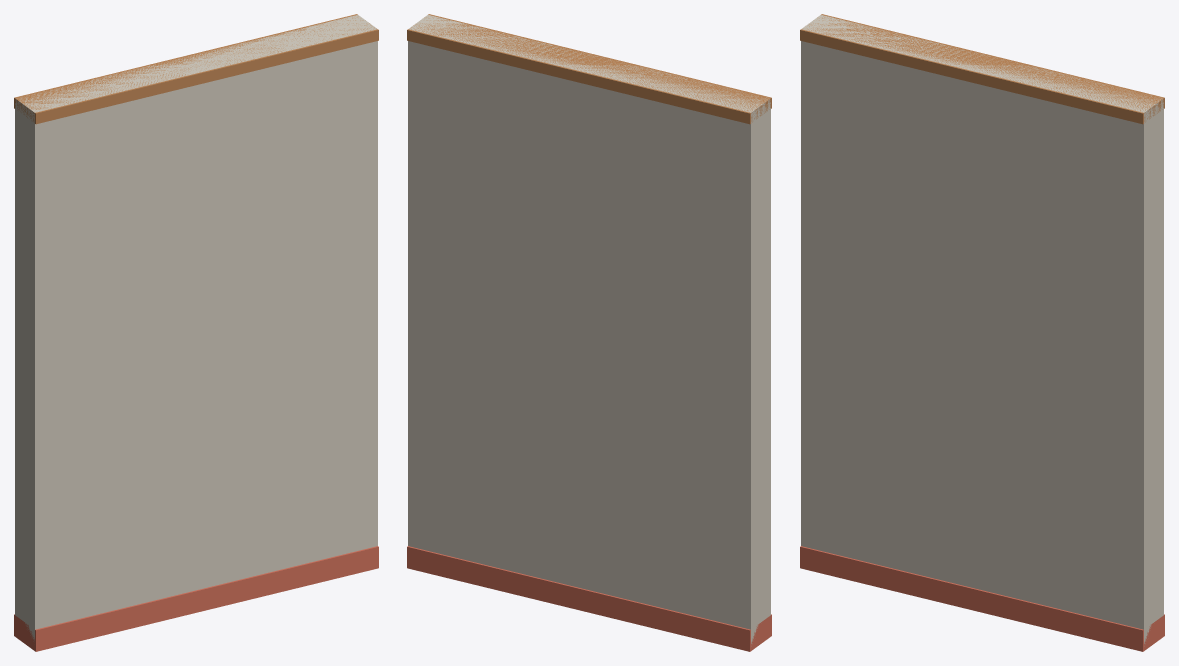
The model's file is bakery_loft_wall_2m.glb.
The picture shows the model from 3 angles, left to right: view 1: azimuth 30°, elevation 25°; view 2: azimuth 150°, elevation 25°; view 3: azimuth 330°, elevation 25°; orthographic projection.
Visible parts, largest first — view 1: bakery_loft_wall_2m; view 2: bakery_loft_wall_2m; view 3: bakery_loft_wall_2m.
Boxes of the visible parts, x1,y1,x2,y2 form: bakery_loft_wall_2m: (14,14,378,651); bakery_loft_wall_2m: (407,14,771,651); bakery_loft_wall_2m: (800,14,1164,651).
Bounding box in the file's own units: 2 × 3 × 0.22.
